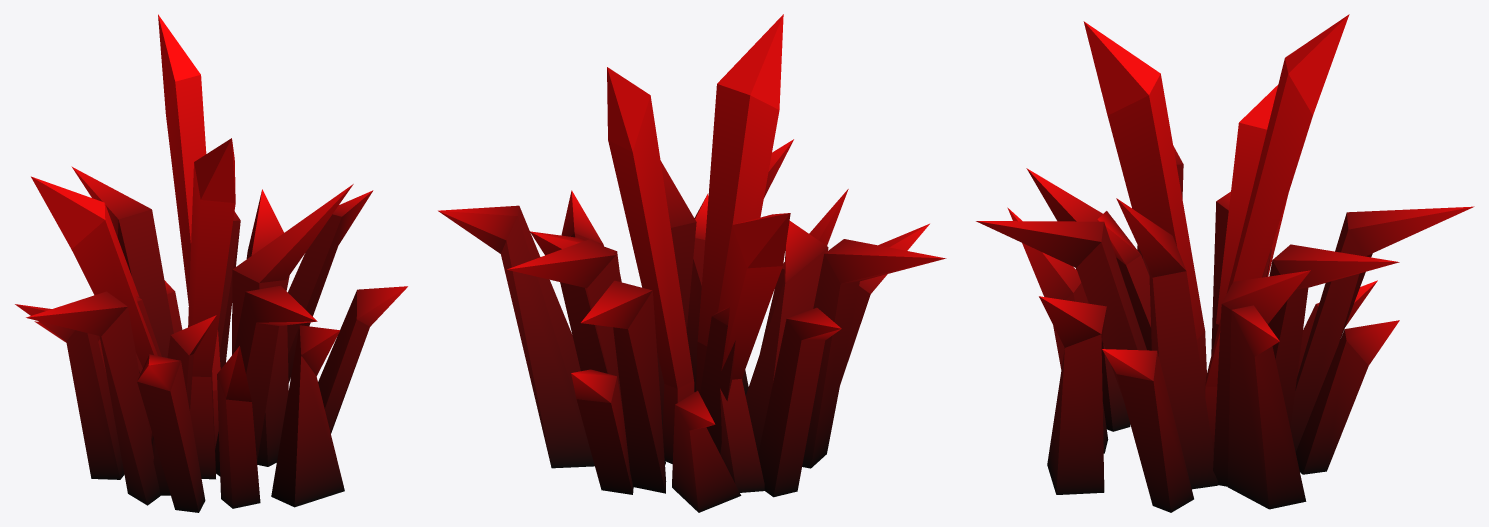
File: SM_Grass_04.fbx
3 renders of one model, left to right at view 1: azimuth 30°, elevation 25°; view 2: azimuth 150°, elevation 25°; view 3: azimuth 270°, elevation 25°, orthographic. The views are drawn at different scales.
Visible parts, largest first — view 1: SM_Grass_04; view 2: SM_Grass_04; view 3: SM_Grass_04.
Part boxes in pixels (bbox=[...]): SM_Grass_04: bbox=[15, 14, 407, 512]; SM_Grass_04: bbox=[438, 14, 946, 512]; SM_Grass_04: bbox=[976, 14, 1474, 512].
Bounding box in the file's own units: 0.7648 × 0.7139 × 0.7197.
